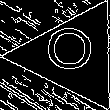O_S: (48, 30, 98, 81)
